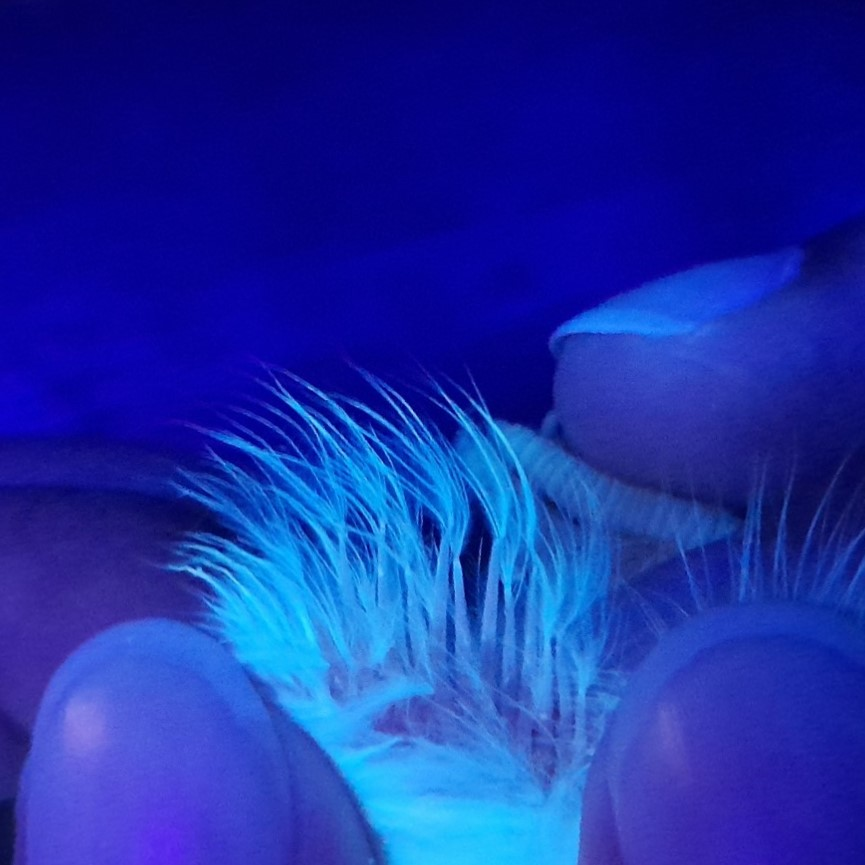male: (300, 513, 600, 800)
